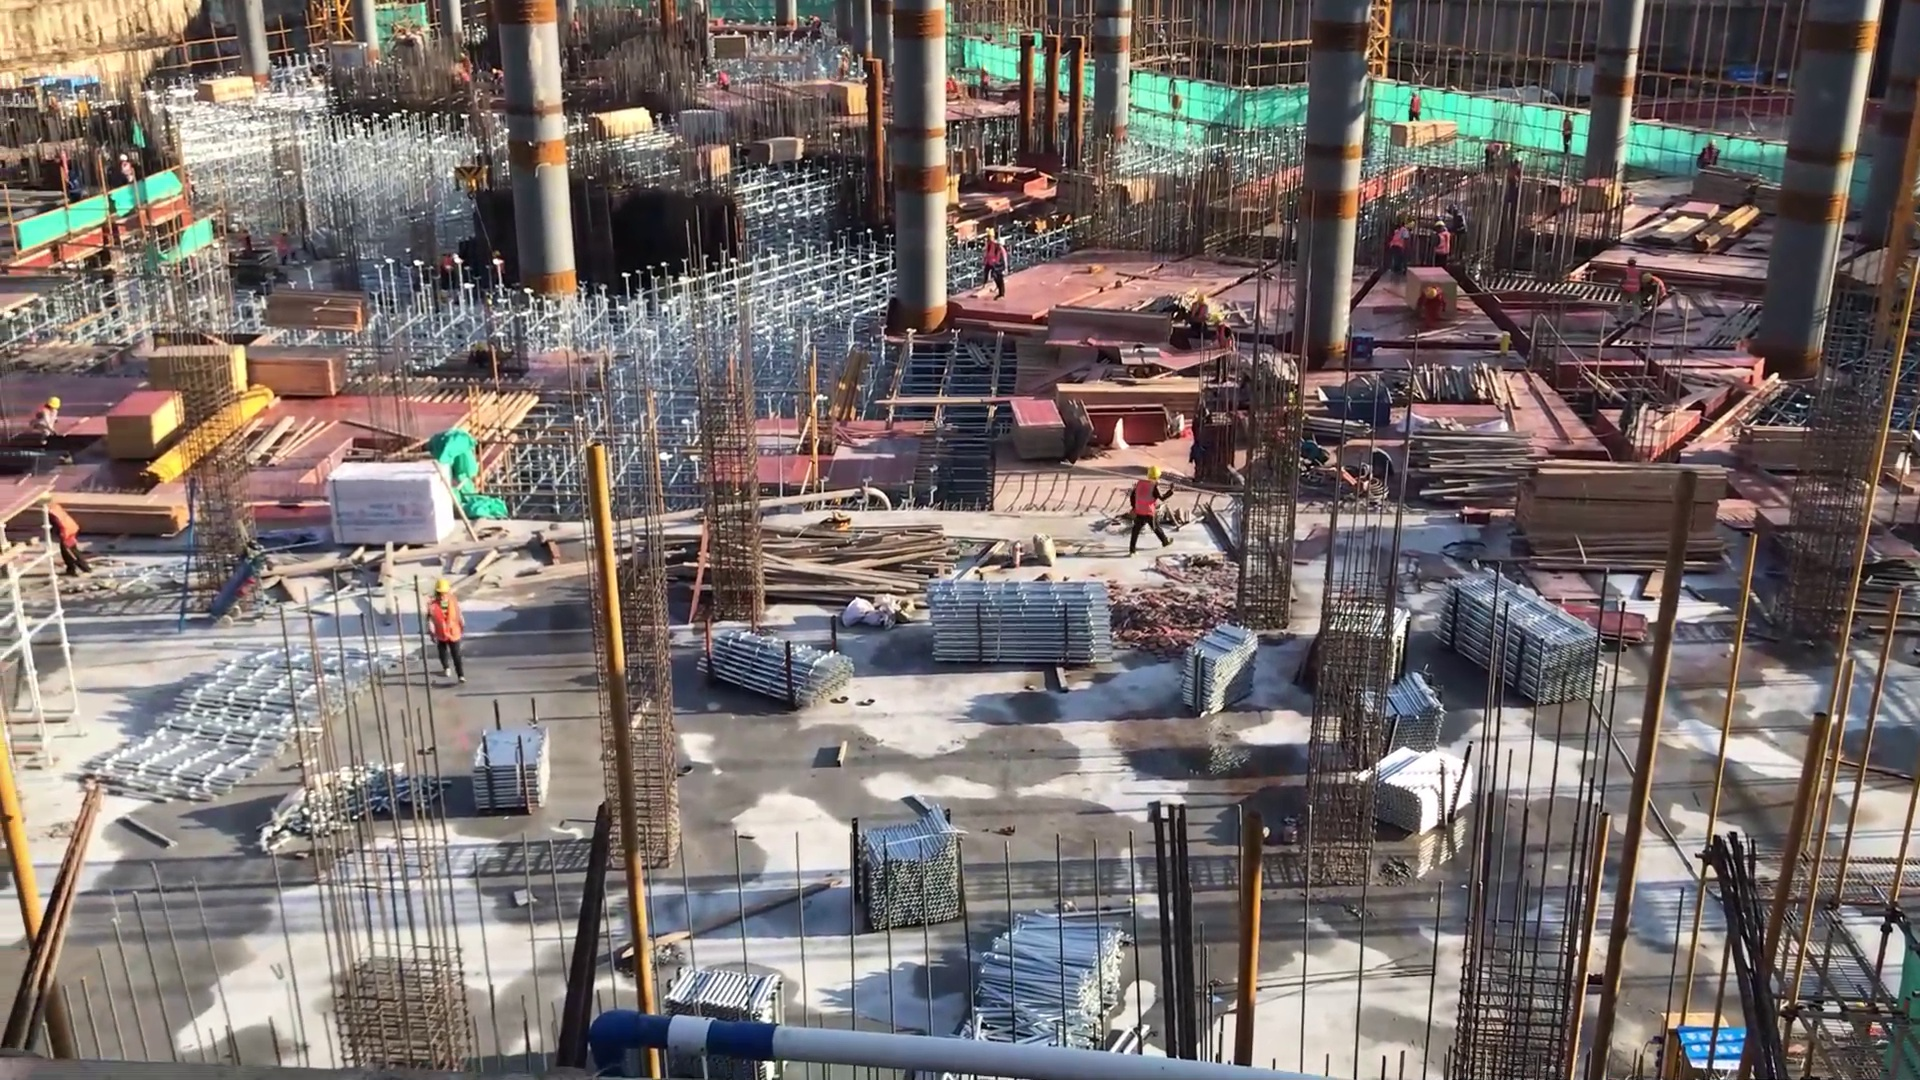board: (98, 383, 186, 480), (1547, 602, 1659, 662), (149, 343, 249, 409), (1009, 391, 1072, 470), (831, 76, 867, 118)
helmet: (433, 575, 458, 597), (43, 395, 63, 415), (1422, 286, 1441, 302), (1212, 312, 1228, 330), (1144, 467, 1166, 479), (1432, 218, 1447, 229), (1195, 291, 1206, 305), (119, 152, 130, 164), (1405, 221, 1416, 232), (995, 236, 1006, 245)
hook: (1318, 381, 1395, 432)
person: (425, 576, 475, 691), (1122, 464, 1175, 561), (34, 493, 91, 580), (1212, 304, 1238, 391), (33, 394, 66, 460), (1618, 254, 1646, 329), (1388, 216, 1418, 276), (1416, 283, 1448, 333), (1186, 290, 1212, 350), (980, 223, 1001, 292), (1448, 198, 1469, 258), (1430, 216, 1450, 275), (991, 234, 1010, 299), (1642, 270, 1669, 313), (1697, 139, 1723, 179), (1404, 85, 1426, 134), (271, 221, 291, 273), (940, 69, 964, 110), (108, 152, 132, 190), (65, 167, 84, 211), (977, 61, 993, 106), (714, 63, 731, 101), (488, 63, 505, 98), (1562, 107, 1575, 156)
scaffold: (1440, 567, 1620, 707), (979, 905, 1122, 1060), (927, 576, 1122, 674), (702, 624, 877, 716), (845, 813, 959, 930), (658, 946, 795, 1030), (1350, 674, 1436, 791), (1184, 626, 1262, 720)
vest: (427, 594, 466, 654), (46, 500, 81, 551), (1133, 479, 1165, 524), (1648, 274, 1669, 304), (992, 243, 1010, 277), (1434, 231, 1454, 260), (1620, 268, 1641, 297), (1187, 302, 1208, 329), (1390, 227, 1410, 253), (1452, 210, 1470, 237), (67, 177, 81, 197)
wood: (1505, 456, 1737, 564), (764, 518, 949, 610), (1411, 425, 1537, 504), (1726, 426, 1910, 473), (1060, 380, 1211, 431), (239, 346, 344, 398), (49, 494, 199, 532), (258, 289, 376, 335), (584, 108, 658, 147), (748, 133, 808, 175), (192, 70, 255, 111), (1386, 120, 1462, 153)
